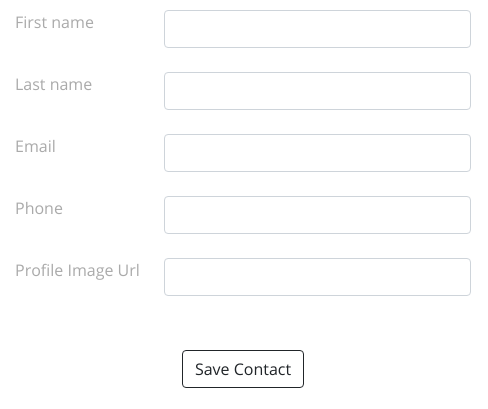
Test: EditContactForm › has first name error message when First Name is not filled
The width and height of the screenshot is (488, 409).
Click the button.
click(243, 369)  # box [182,350,304,388]
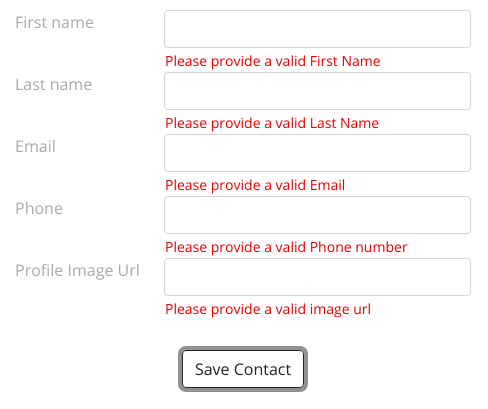
Now the text "Please provide a valid First Name" is shown, box [165,51,381,70]
